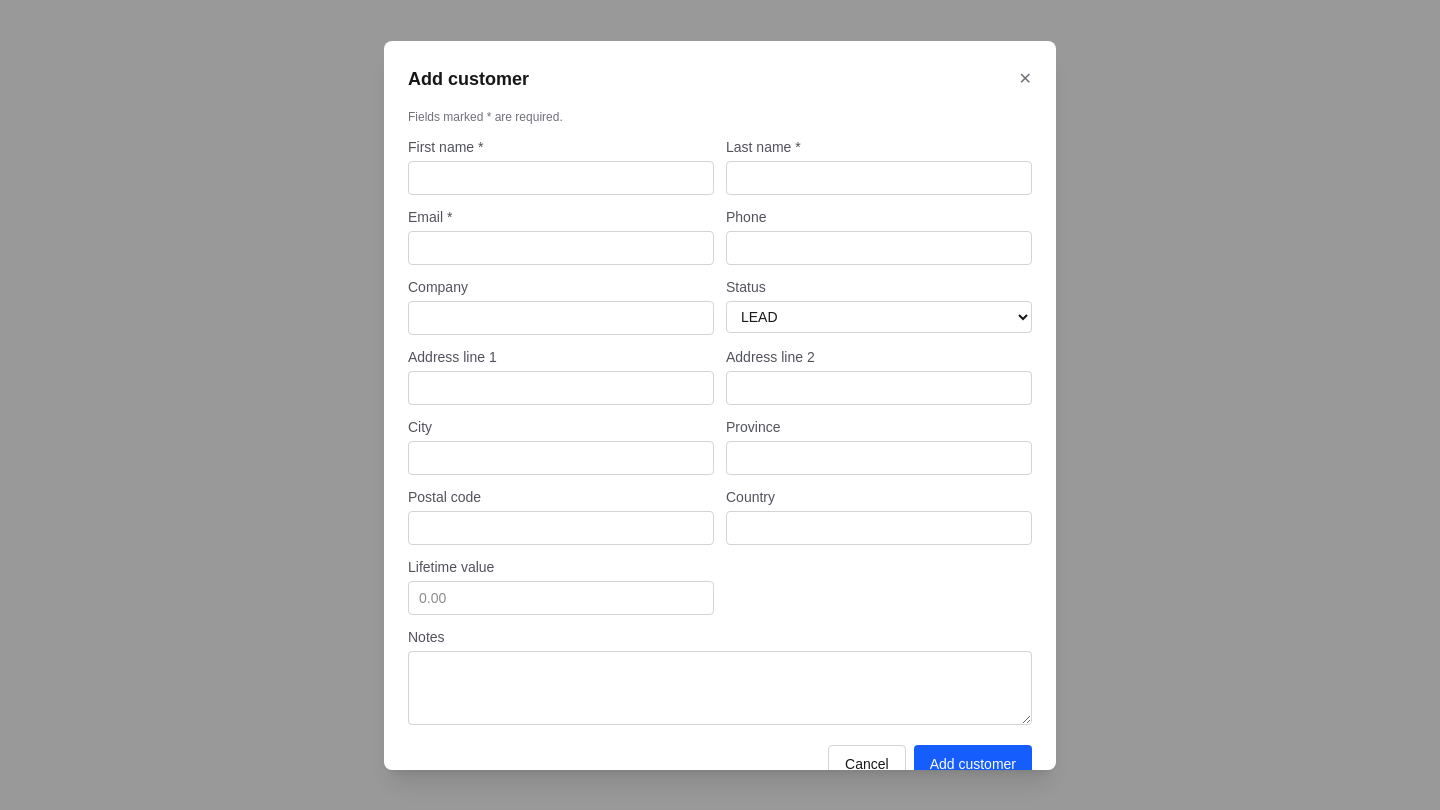
CustomerFormModal › blocks submission and shows a message under each blank required field
The width and height of the screenshot is (1440, 810).
Step 1. Click the button "Add customer" → (973, 764), box [914,744,1032,782]
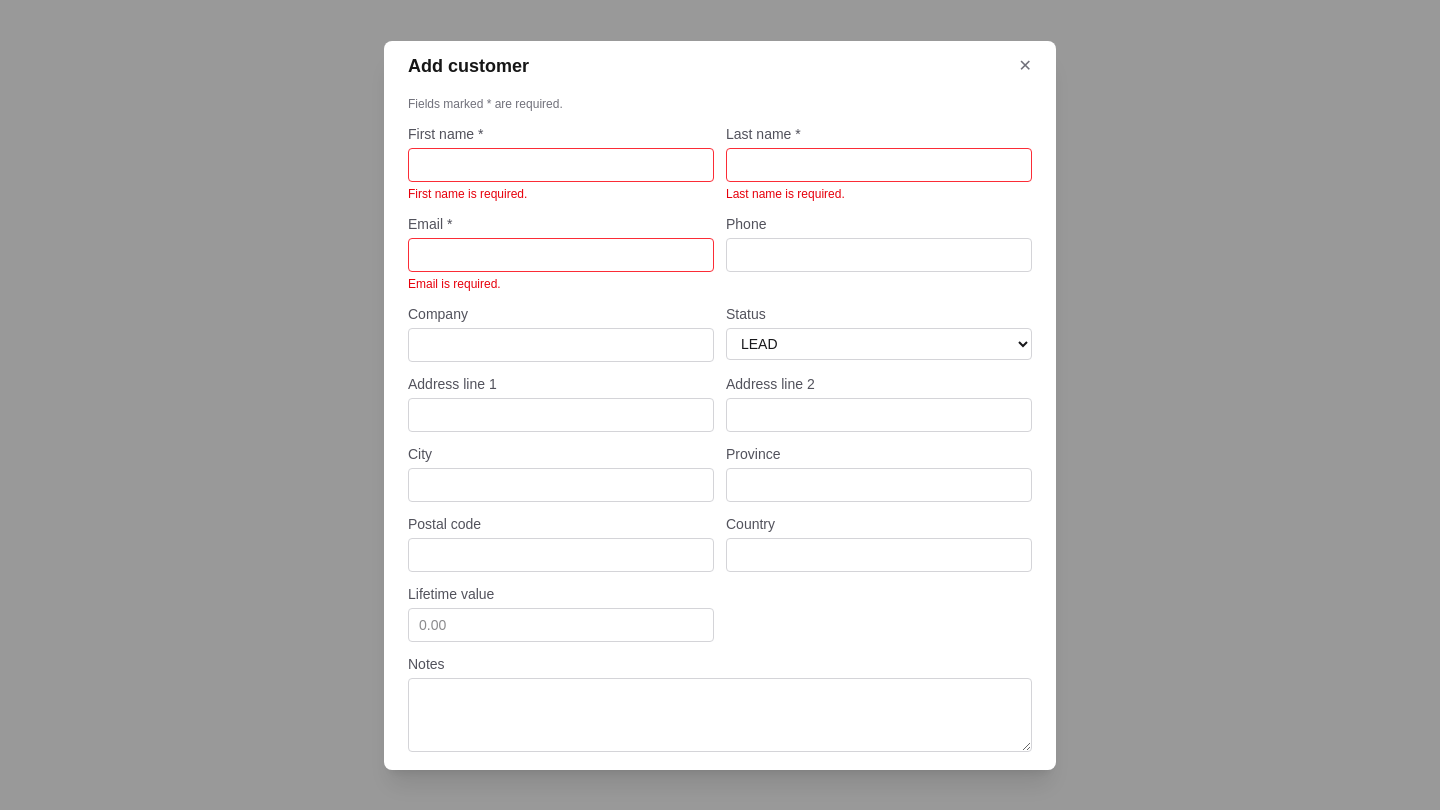
Check: the text "First name is required." is shown, box [408,186,527,200]
Check: the text "Last name is required." is shown, box [726,186,845,200]
Check: the text "Email is required." is shown, box [408,276,501,290]
